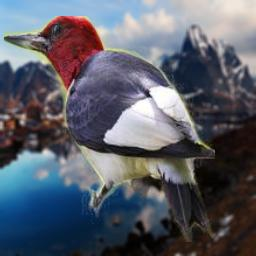Woodpecker: (4, 16, 215, 242)
